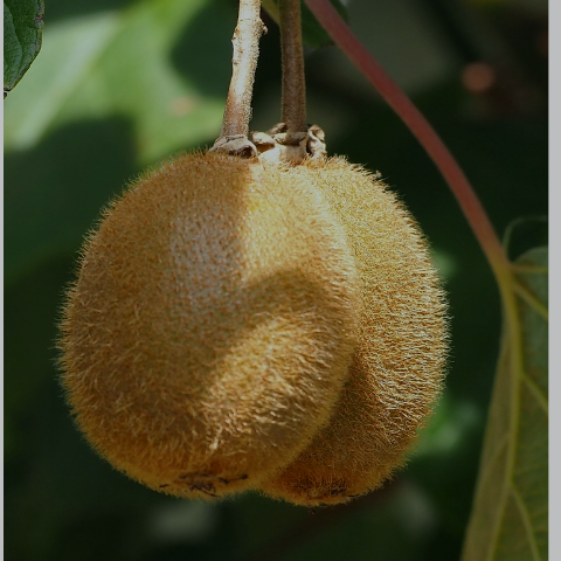kiwi: (55, 125, 359, 528)
